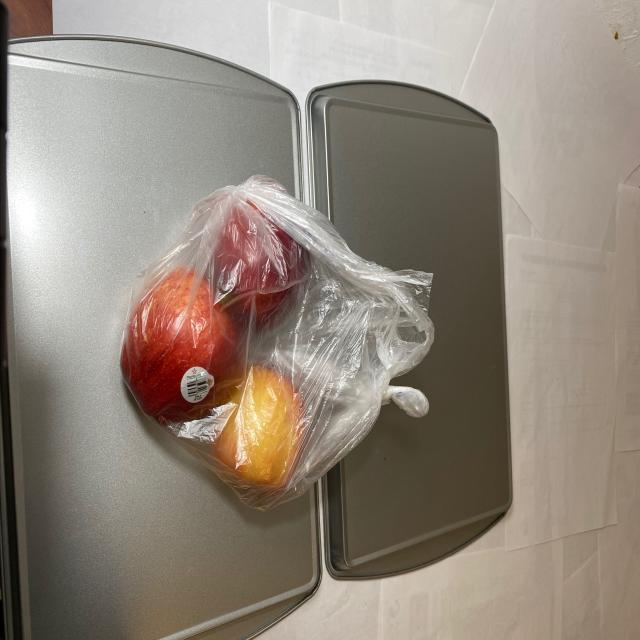apple: (120, 177, 315, 504)
